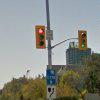Traffic light: (30, 19, 99, 56)
